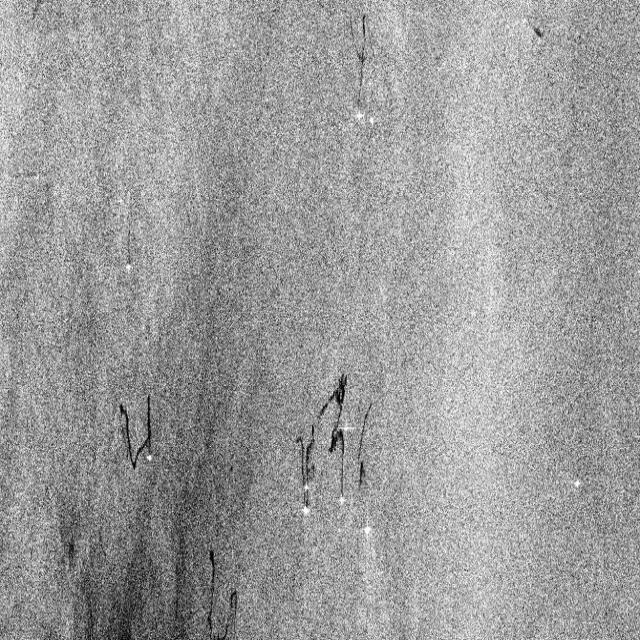look-alike: (58, 512, 188, 640)
oil-spill: (116, 383, 153, 475), (206, 545, 238, 640), (322, 368, 345, 495), (345, 12, 373, 106), (358, 401, 375, 487), (294, 430, 317, 480), (526, 15, 548, 47)
ship: (361, 514, 372, 550), (122, 258, 135, 276), (571, 473, 581, 495), (354, 106, 366, 124), (301, 504, 311, 522), (145, 450, 154, 469), (336, 493, 346, 508), (344, 420, 352, 436), (369, 116, 375, 132), (304, 482, 309, 496)
